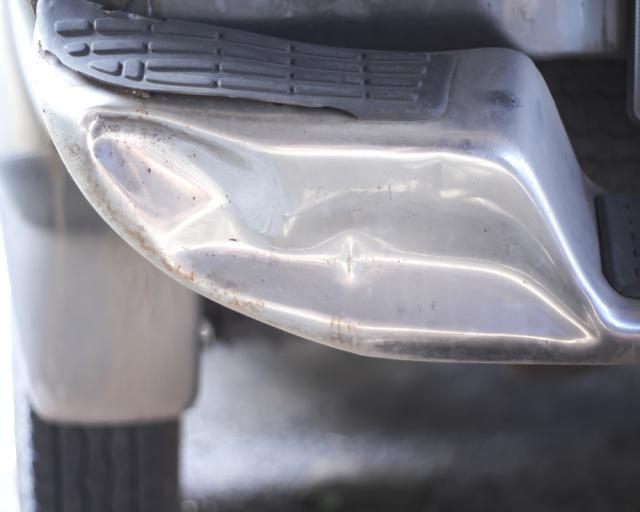dent: (92, 108, 600, 343)
